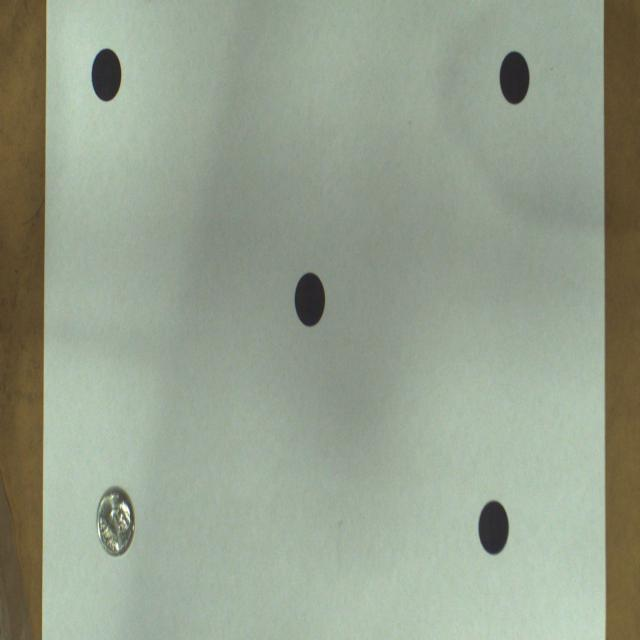head1bath: (98, 487, 135, 556)
space: (295, 273, 325, 327), (91, 49, 121, 102), (500, 51, 530, 104)
